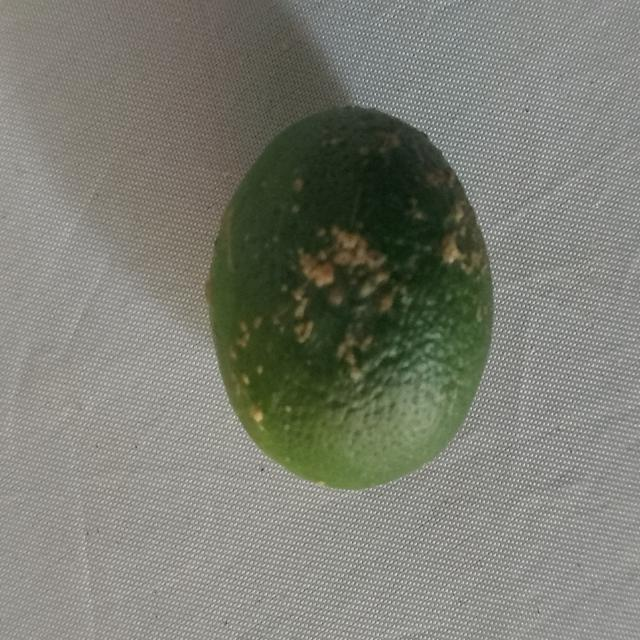scab: (203, 92, 497, 503)
